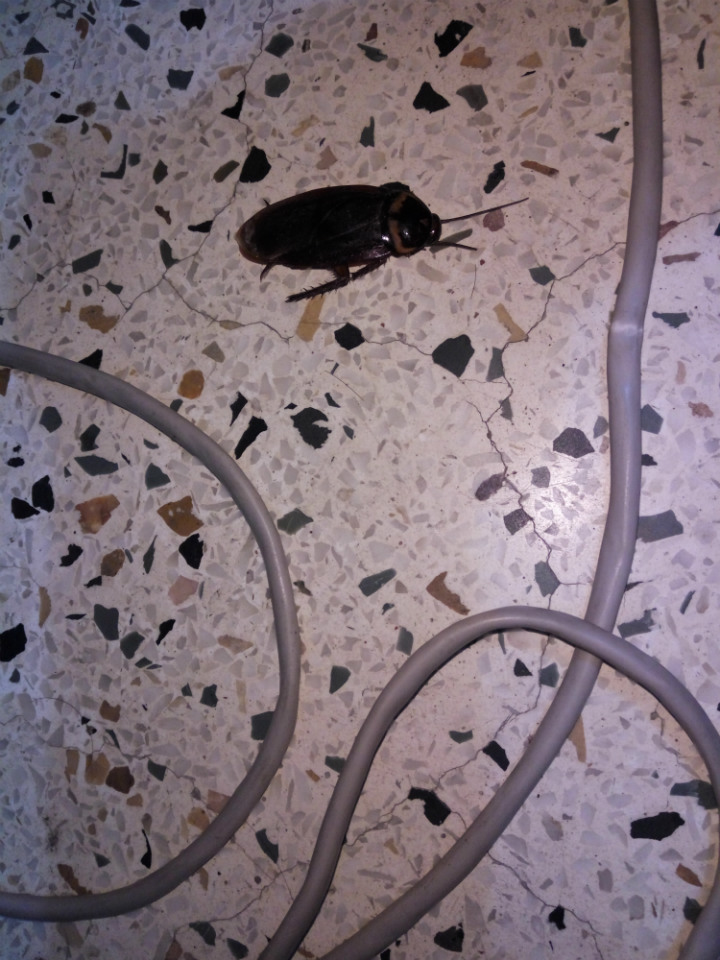cockroach: (135, 162, 565, 325)
